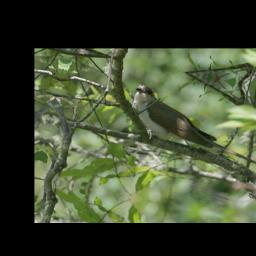Cuckoo: (122, 82, 256, 168)
